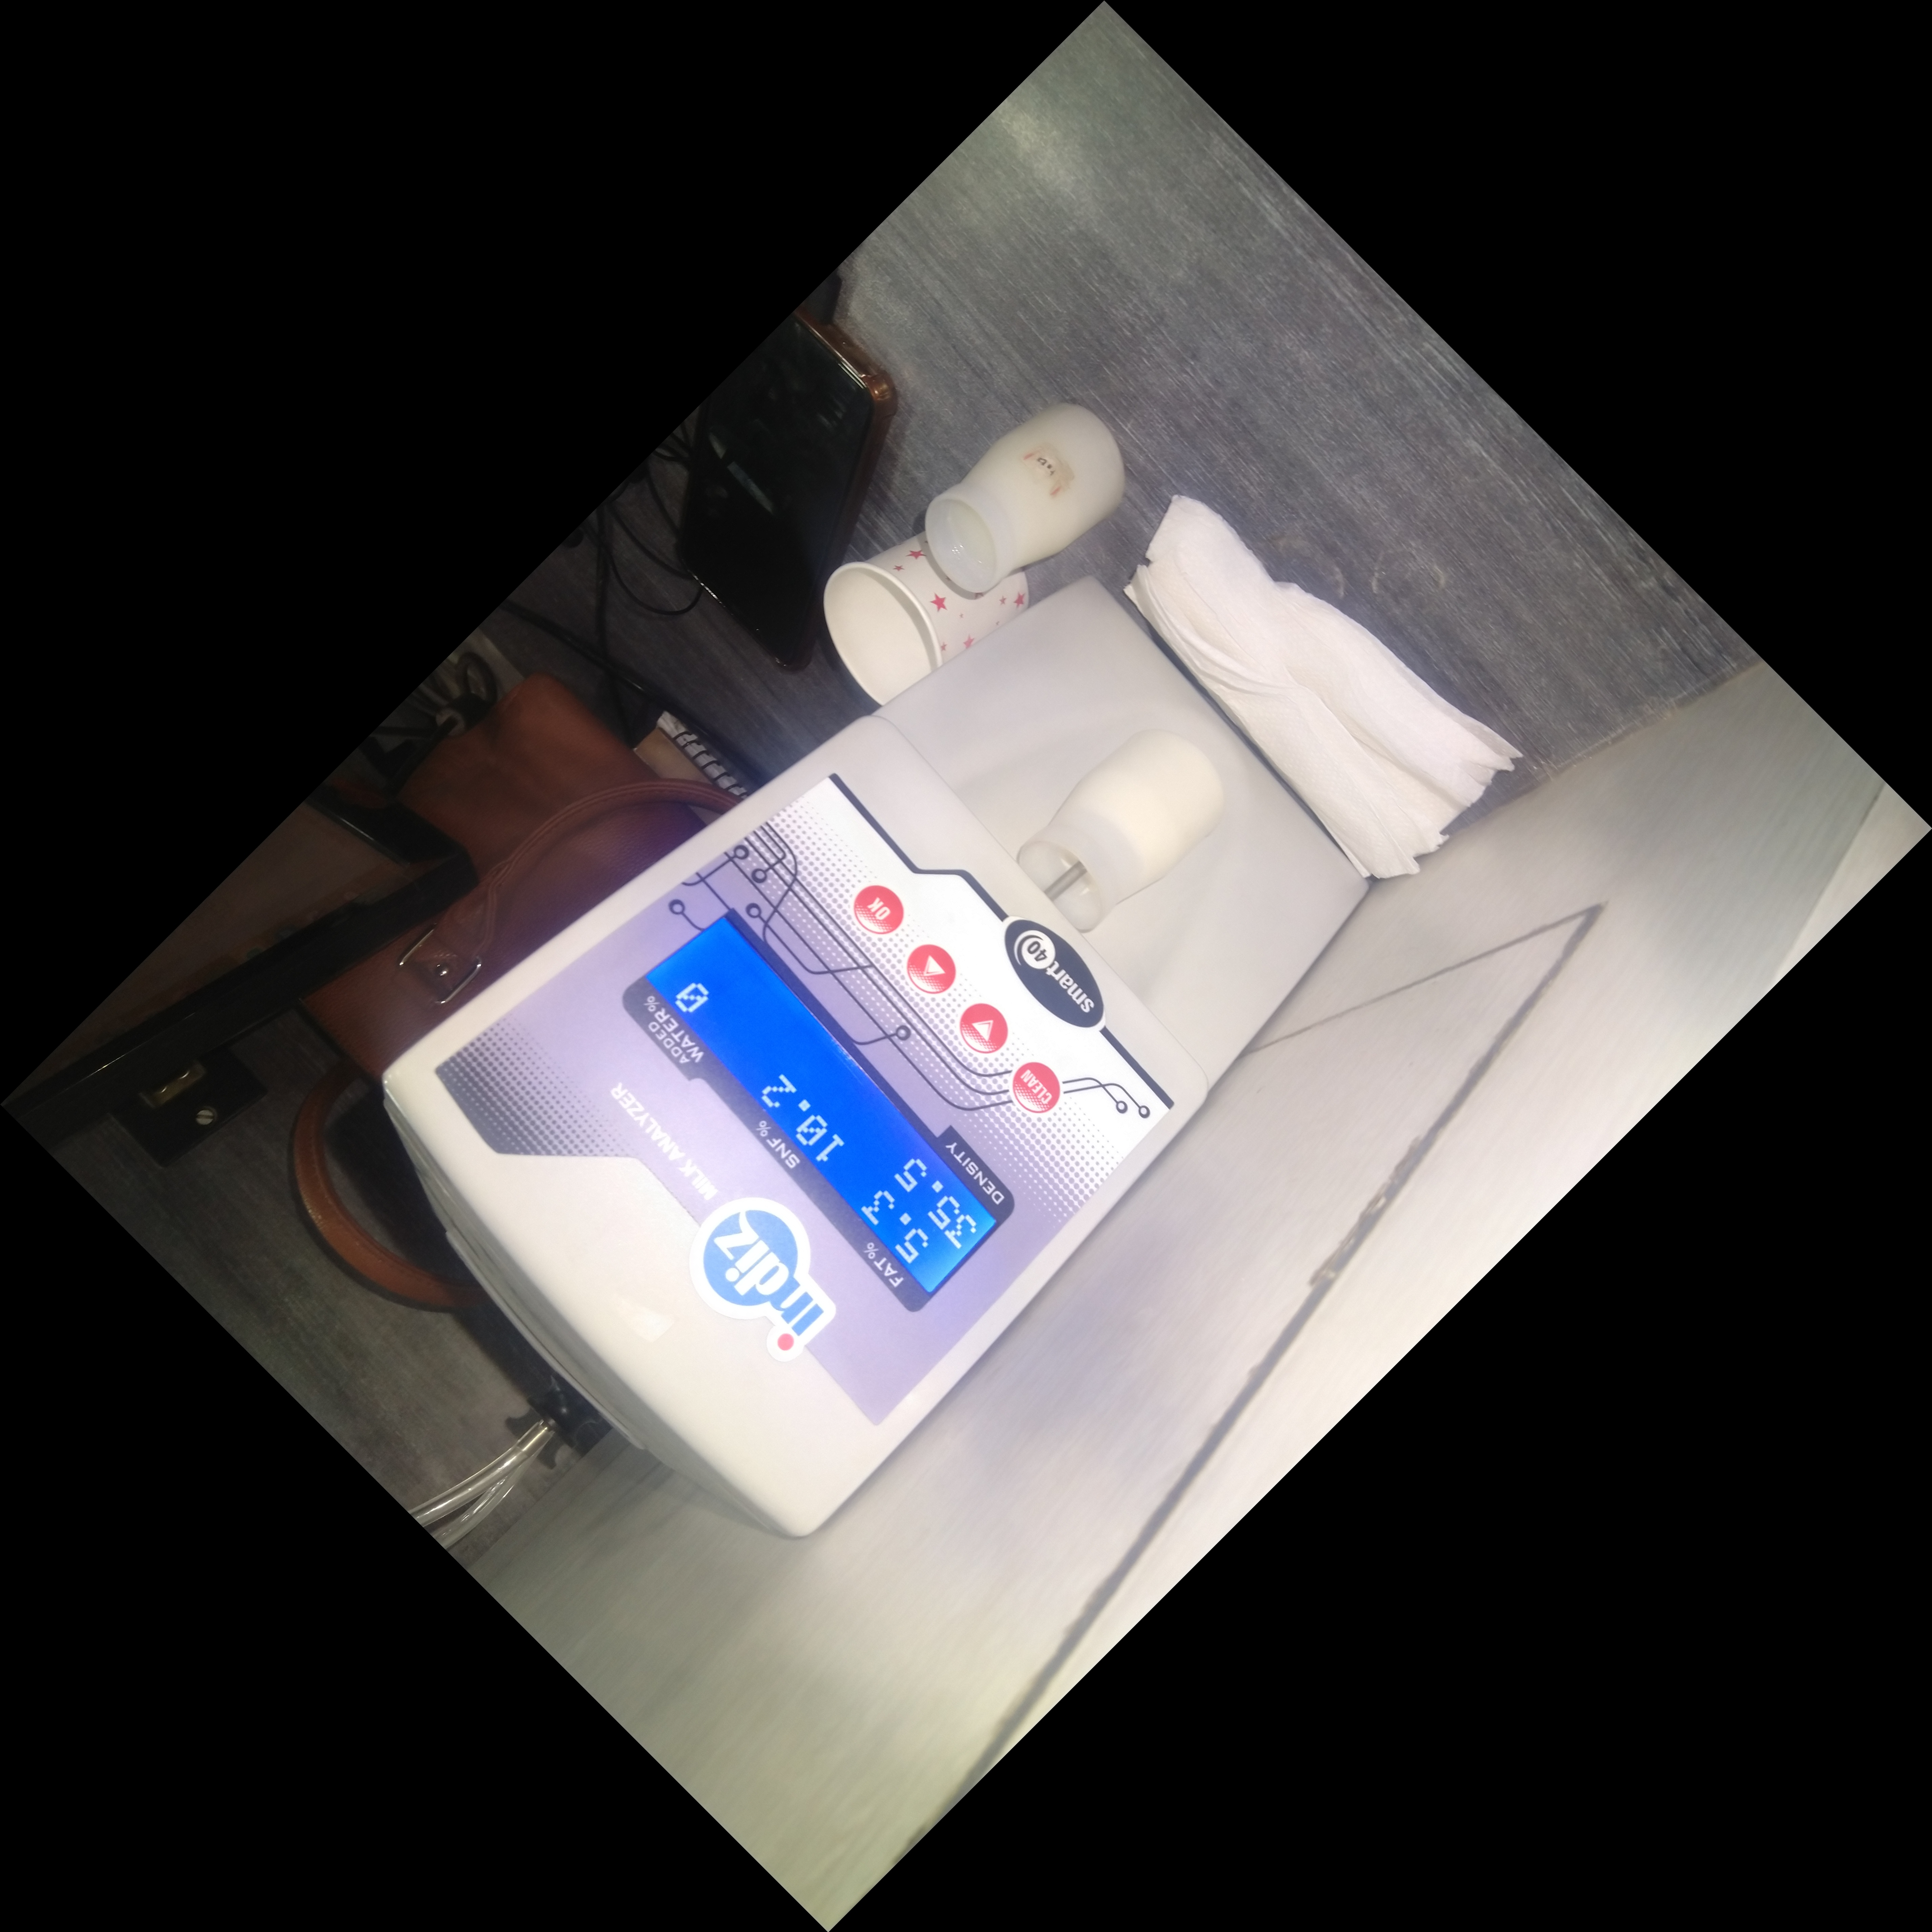lcd: (602, 901, 1035, 1329)
